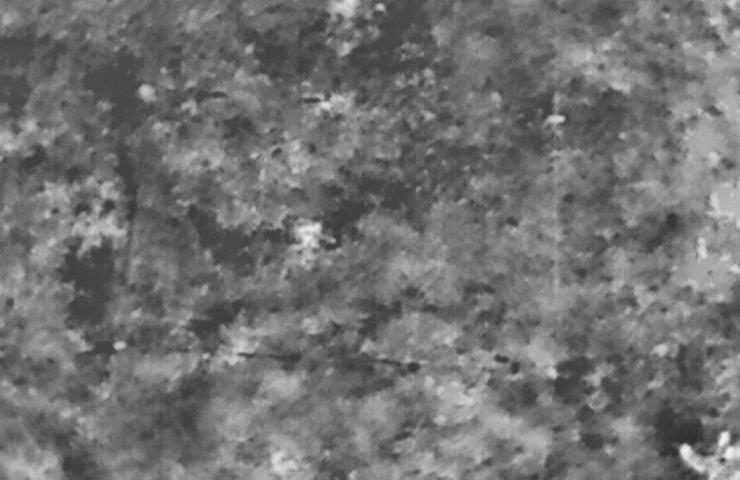landmines: (293, 221, 329, 247)
